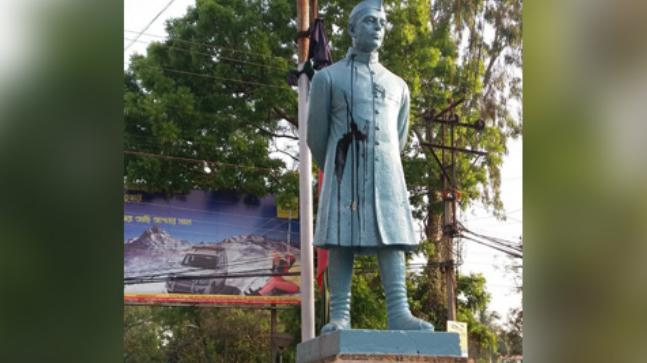person-like: (303, 2, 439, 332)
